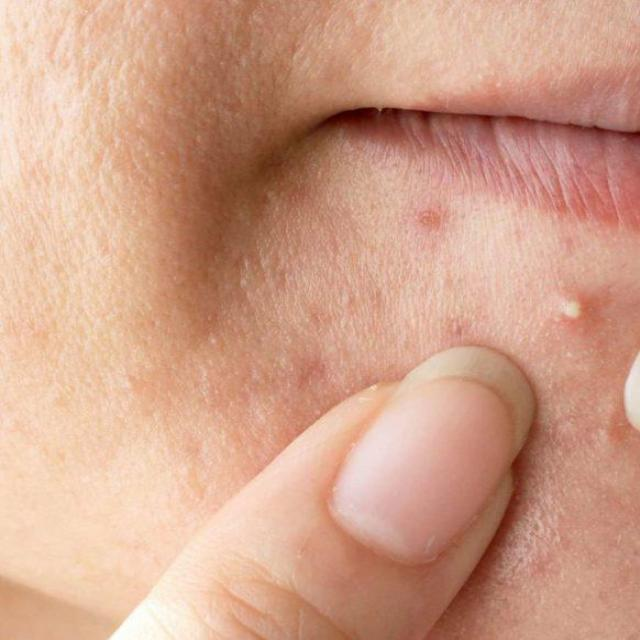blackheads: (550, 291, 592, 324), (416, 200, 448, 232)
